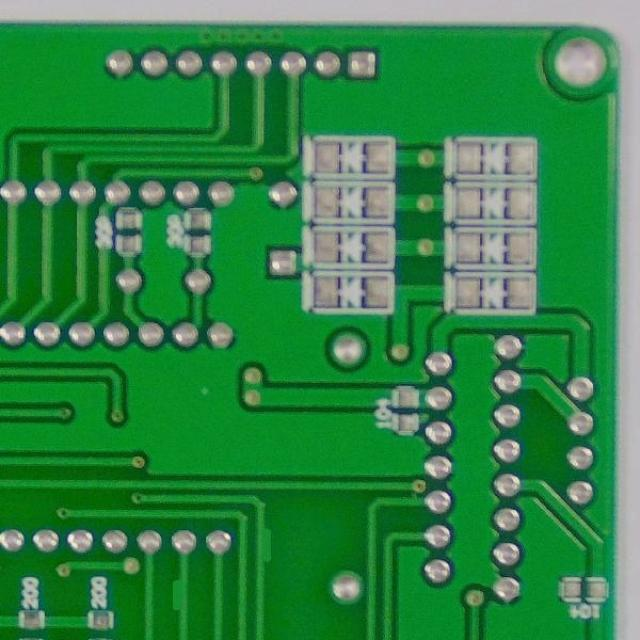Spur: (250, 522, 278, 566), (166, 572, 192, 616)
